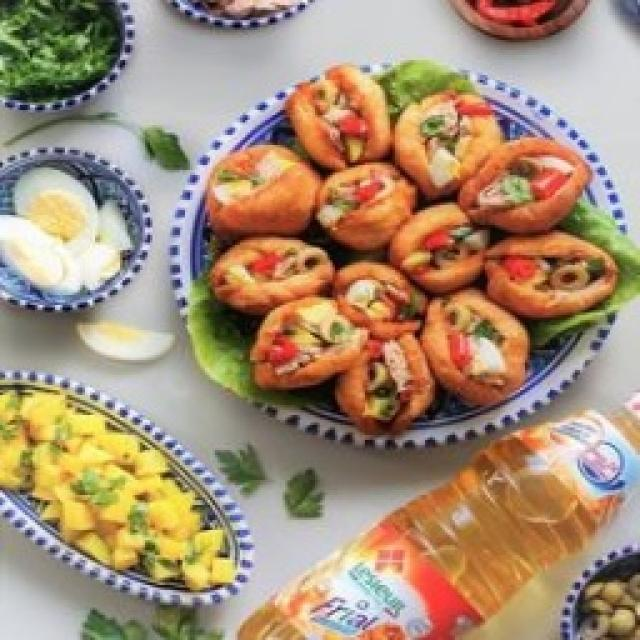Frecasse: (165, 58, 640, 455)
